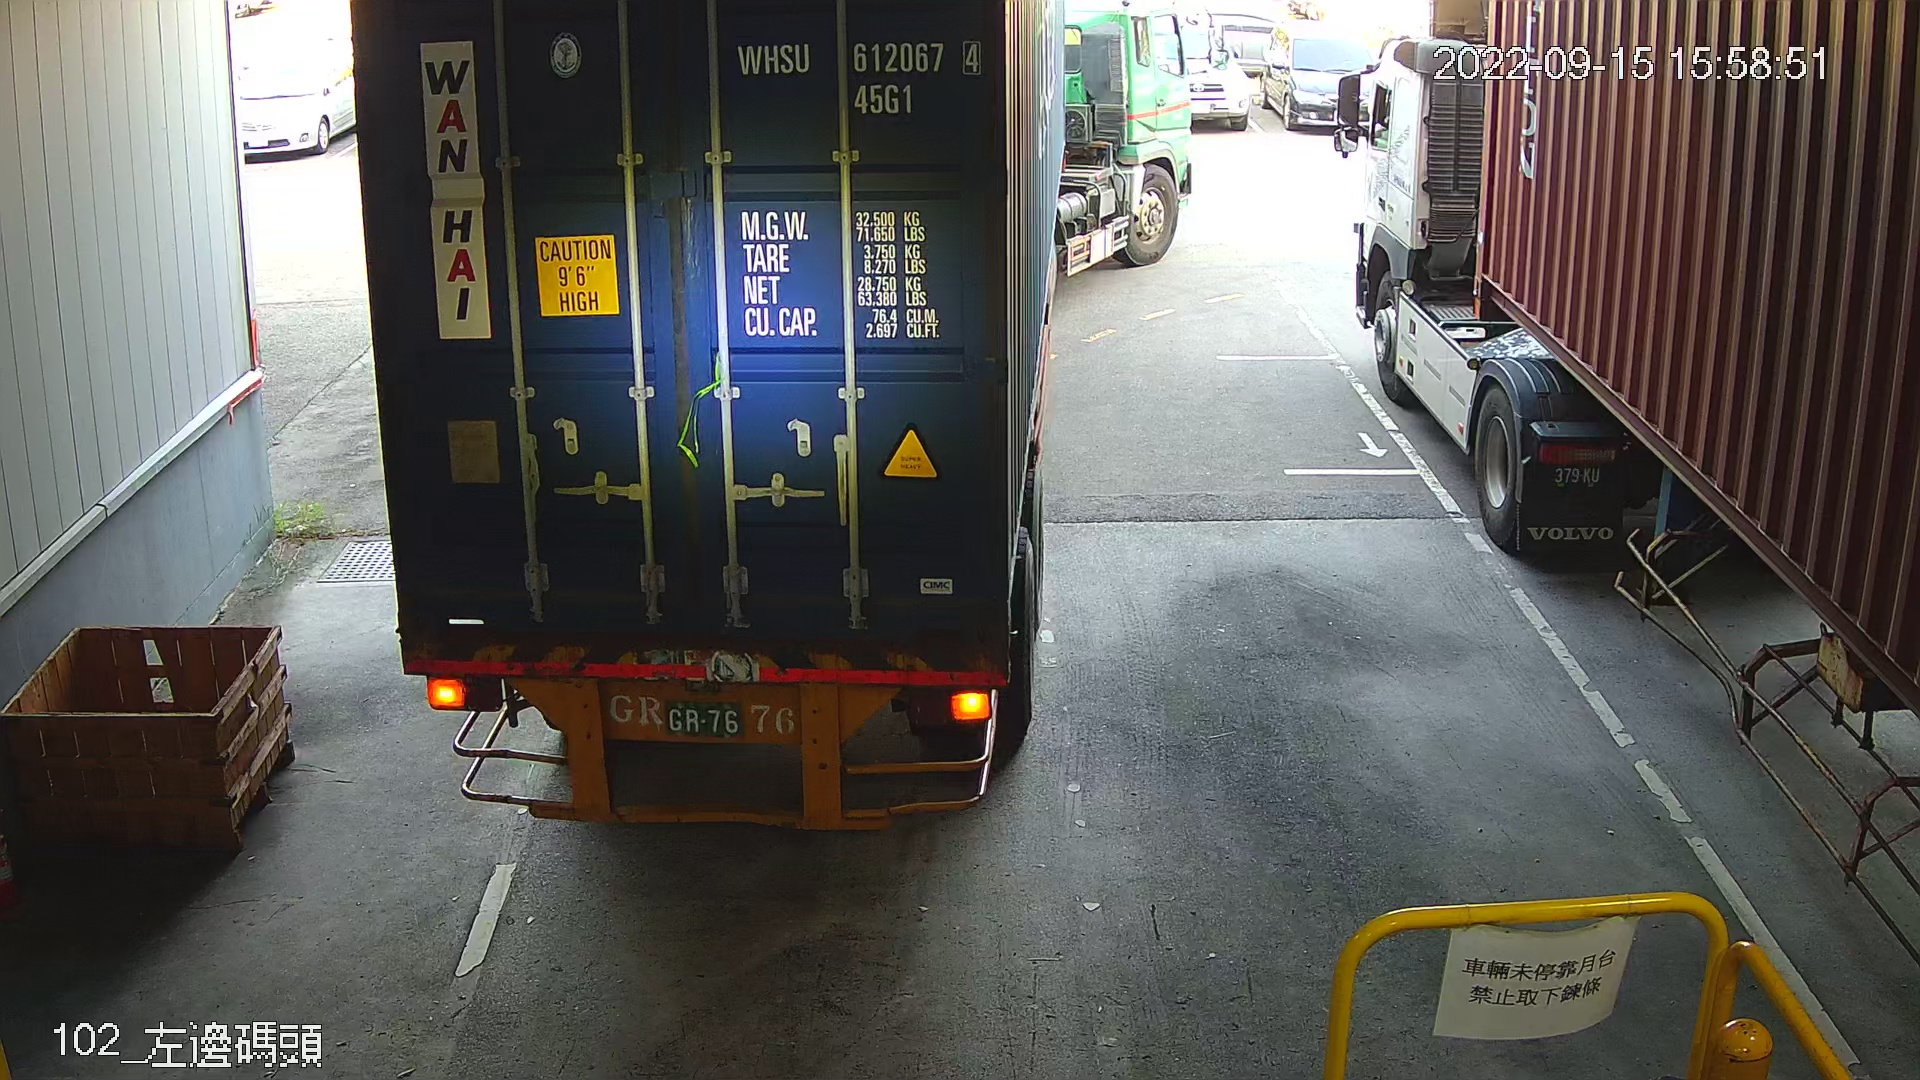container: (728, 29, 992, 124)
